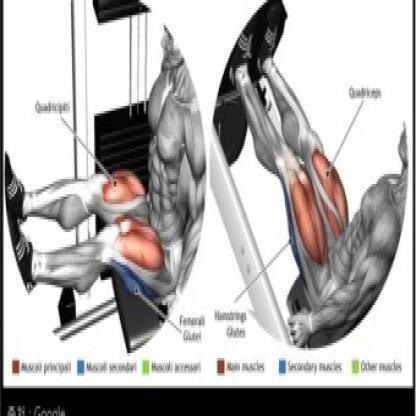leg press: (2, 0, 209, 361), (210, 0, 406, 350)
